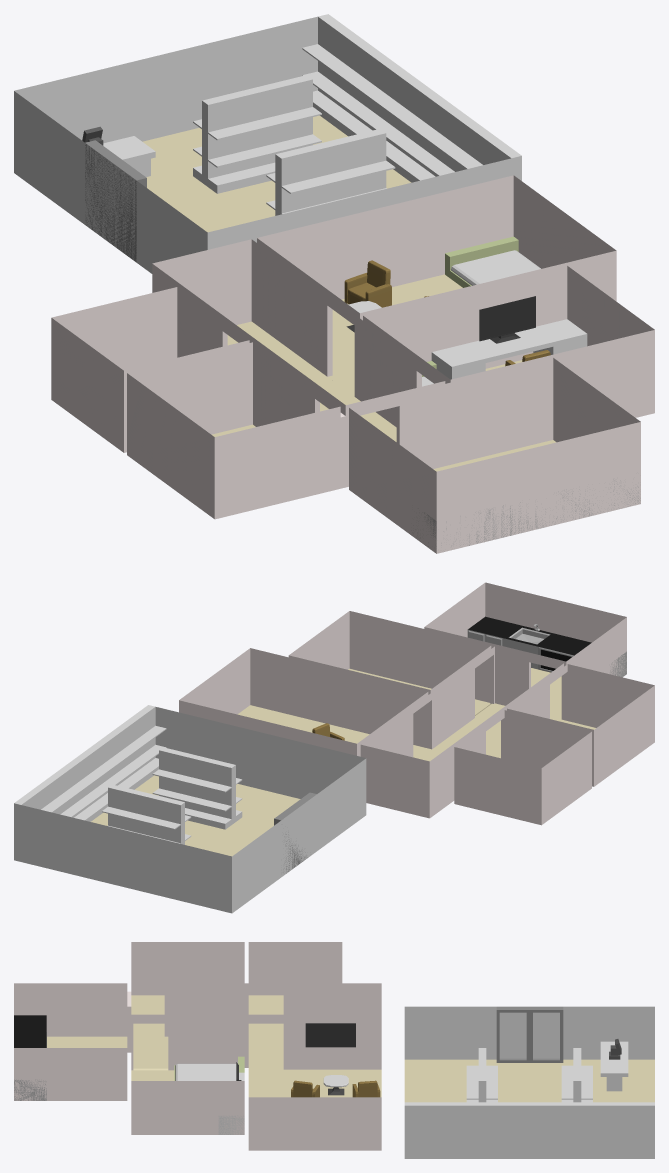
Rendered from shoop.fbx.
3 views of the same model, one above another, from view 1: azimuth 30°, elevation 25°; view 2: azimuth 150°, elevation 25°; view 3: azimuth 270°, elevation 25° (orthographic). The views are drawn at different scales.
Parts seen in each view (by area): view 1: Plane, kuhnia, bathroom, zal, my room, Cube.020, cladovka, prihozh, Cube.012, coridor, Cube.011, Cube.015 (+8 smaller); view 2: Plane, zal, cladovka, my room, kuhnia, bathroom, Cube.020, prihozh, coridor, Object, Cube.016, Cube.017 (+3 smaller); view 3: Plane, zal, kuhnia, my room, Cube.020, bathroom, cladovka, prihozh, coridor, Cube.011, Object, Cube.002 (+10 smaller).
Part boxes in pixels (<box>): Plane: <box>14,16,521,273</box>; kuhnia: <box>349,357,640,553</box>; bathroom: <box>127,342,343,519</box>; zal: <box>257,175,616,393</box>; my room: <box>363,265,654,417</box>; Cube.020: <box>302,14,521,182</box>; cladovka: <box>51,287,249,452</box>; prihozh: <box>152,239,355,406</box>; Cube.012: <box>193,88,269,193</box>; coridor: <box>256,316,445,487</box>; Cube.011: <box>85,140,146,262</box>; Cube.015: <box>255,75,321,180</box>; Plane: <box>14,707,366,913</box>; zal: <box>179,648,430,758</box>; cladovka: <box>454,710,591,825</box>; my room: <box>288,611,492,715</box>; kuhnia: <box>424,582,626,718</box>; bathroom: <box>507,664,654,786</box>; Cube.020: <box>14,705,166,864</box>; prihozh: <box>360,692,502,818</box>; coridor: <box>433,646,565,758</box>; Object: <box>467,616,626,677</box>; Cube.016: <box>189,756,242,829</box>; Cube.017: <box>152,747,199,820</box>; Plane: <box>404,1006,654,1158</box>; zal: <box>248,1016,381,1150</box>; kuhnia: <box>14,983,129,1100</box>; my room: <box>131,1016,244,1134</box>; Cube.020: <box>404,1102,654,1158</box>; bathroom: <box>131,942,244,1035</box>; cladovka: <box>248,942,342,1035</box>; prihozh: <box>246,983,381,1068</box>; coridor: <box>129,983,246,1068</box>; Cube.011: <box>496,1006,563,1062</box>; Object: <box>14,1015,46,1100</box>; Cube.002: <box>305,1023,355,1047</box>.
Size of the model in its own units: 9900 by 1532 by 16393.
